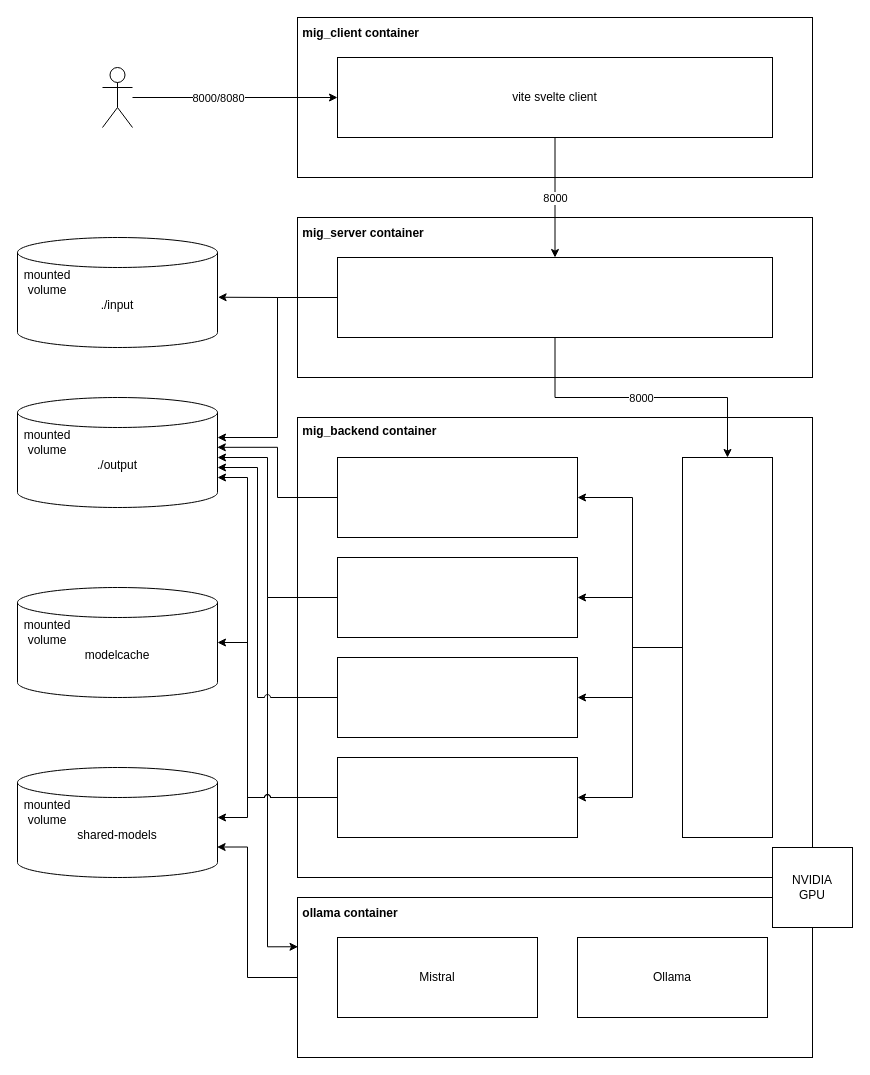
Image size: 870x1075. Some labels were removed from this diagram. The centre of each missing label's shape, as x and y in pixels:
api.py (venv): (x=727, y=647)
Compute Metrics Pipeline (venv): (x=457, y=697)
endpoints.py: (x=554, y=297)
Music Generation Pipeline (venv): (x=457, y=797)
Prompts Generation Pipeline (venv): (x=457, y=597)
Stem Separation Pipeline (venv): (x=457, y=497)
